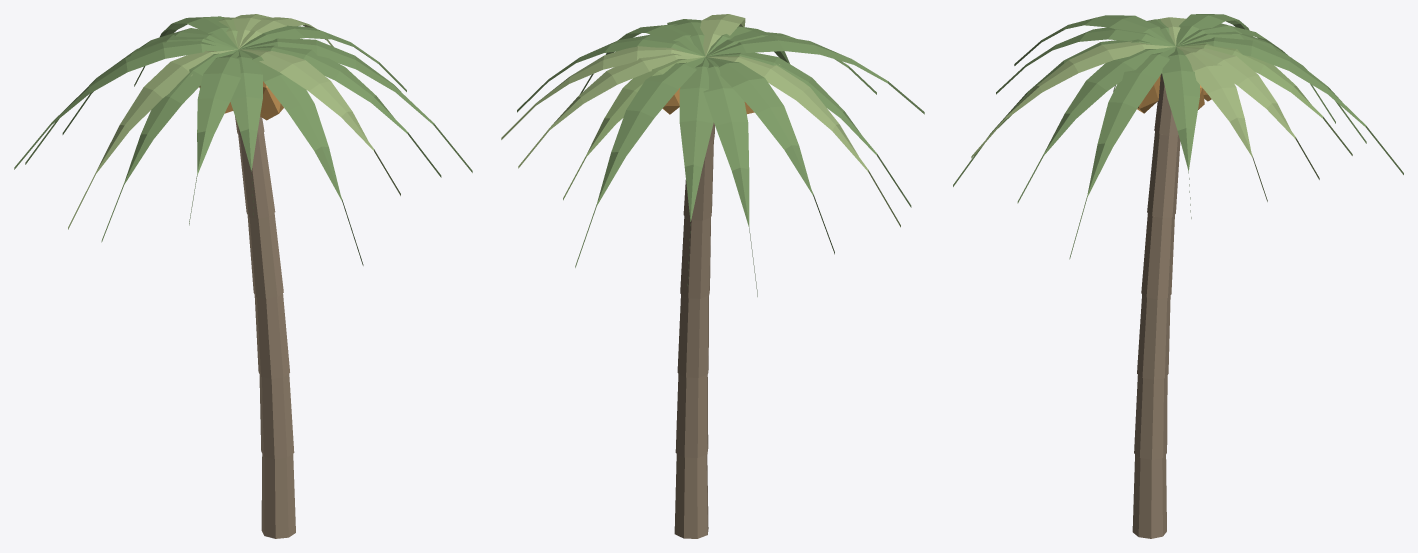
The model's file is DatePalmA.glb.
3 renders of one model, left to right at view 1: azimuth 30°, elevation 25°; view 2: azimuth 150°, elevation 25°; view 3: azimuth 270°, elevation 25°, orthographic. The views are drawn at different scales.
Parts seen in each view (by area): view 1: Frond.012, Frond.010, Limb.068, Frond.013, Frond.008, Limb.069, Limb.070, Limb.071, Frond.009, Frond.011, Frond.007, Limb.072 (+7 smaller); view 2: Frond.006, Frond.004, Frond.007, Frond.005, Limb.068, Limb.069, Frond.008, Limb.070, Limb.071, Frond.002, Frond.010, Frond.001 (+8 smaller); view 3: Frond.015, Limb.068, Frond, Limb.069, Limb.070, Limb.071, Frond.014, Frond.001, Limb.072, Frond.013, Frond.004, Frond.002 (+8 smaller).
Part boxes in pixels (box(x1,y1,x2,y2)): Frond.012: box(239, 49, 363, 265); Frond.010: box(189, 49, 241, 225); Limb.068: box(261, 454, 295, 538); Frond.013: box(239, 49, 400, 195); Frond.008: box(68, 49, 237, 229); Limb.069: box(259, 373, 294, 458); Limb.070: box(254, 293, 289, 378); Limb.071: box(247, 213, 283, 298); Frond.009: box(101, 49, 237, 242); Frond.011: box(230, 49, 262, 214); Frond.007: box(14, 40, 237, 169); Limb.072: box(238, 132, 275, 218); Frond.006: box(703, 57, 757, 296); Frond.004: box(575, 57, 705, 267); Frond.007: box(706, 57, 834, 254); Frond.005: box(679, 57, 713, 285); Limb.068: box(674, 454, 708, 538); Limb.069: box(675, 373, 708, 457); Frond.008: box(706, 56, 900, 227); Limb.070: box(677, 294, 708, 377); Limb.071: box(680, 216, 710, 298); Frond.002: box(518, 53, 704, 168); Frond.010: box(706, 35, 924, 114); Frond.001: box(501, 46, 703, 139); Frond.015: box(1069, 47, 1175, 259); Limb.068: box(1132, 454, 1166, 538); Frond: box(1162, 47, 1199, 218); Limb.069: box(1134, 375, 1167, 459); Limb.070: box(1137, 294, 1170, 379); Limb.071: box(1141, 213, 1174, 299); Frond.014: box(1017, 47, 1174, 203); Frond.001: box(1177, 47, 1267, 201); Limb.072: box(1147, 131, 1180, 217); Frond.013: box(971, 41, 1174, 158); Frond.004: box(1177, 37, 1403, 174); Frond.002: box(1176, 46, 1319, 179).
Size of the model in its own units: 5.94 by 7.66 by 6.52.
